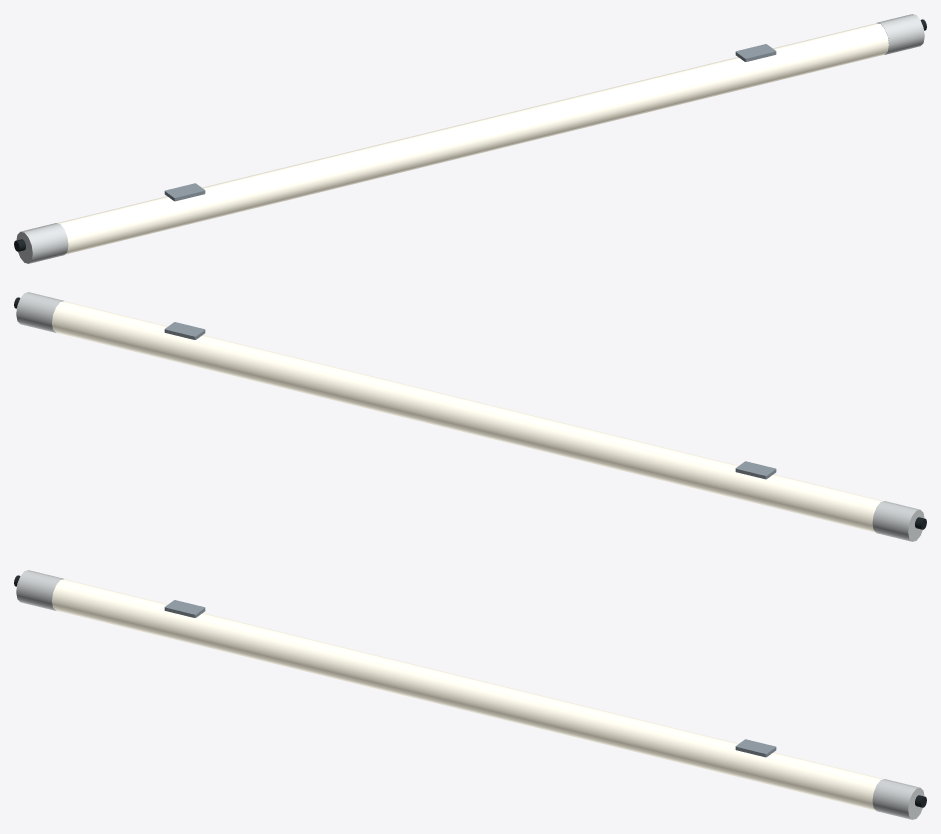
The model's file is source.glb.
3 renders of one model, top to bottom at view 1: azimuth 30°, elevation 25°; view 2: azimuth 150°, elevation 25°; view 3: azimuth 330°, elevation 25°, orthographic.
Parts seen in each view (by area): view 1: Emitters, 粉末涂层铝壳, 机加工金属; view 2: Emitters, 粉末涂层铝壳, 机加工金属; view 3: Emitters, 粉末涂层铝壳, 机加工金属.
Boxes of the visible parts, x1,y1,x2,y2 form: Emitters: [57, 23, 888, 254]; 粉末涂层铝壳: [16, 14, 924, 263]; 机加工金属: [164, 44, 776, 201]; Emitters: [52, 301, 883, 532]; 粉末涂层铝壳: [16, 292, 924, 541]; 机加工金属: [164, 322, 776, 479]; Emitters: [52, 579, 883, 810]; 粉末涂层铝壳: [16, 570, 924, 819]; 机加工金属: [164, 600, 776, 757].
Size of the model in its own units: 1.53 by 0.0531 by 0.0485.
